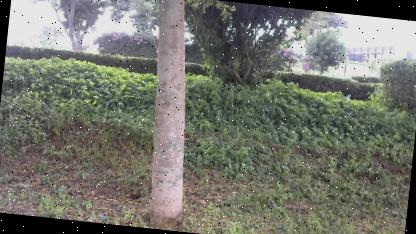tree: (129, 0, 210, 232), (24, 0, 114, 55)
